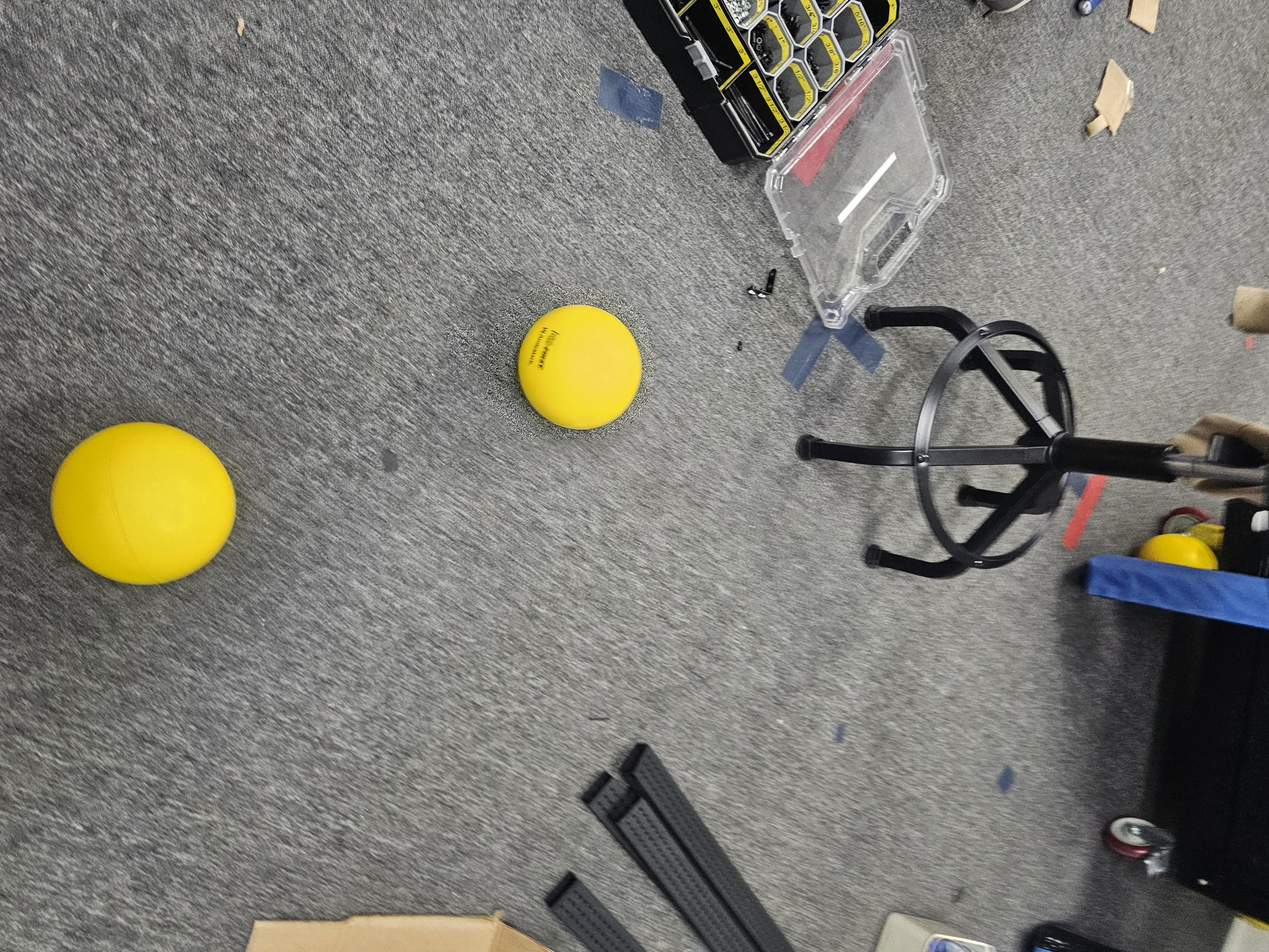fuel: (40, 408, 254, 598), (508, 293, 649, 443)
